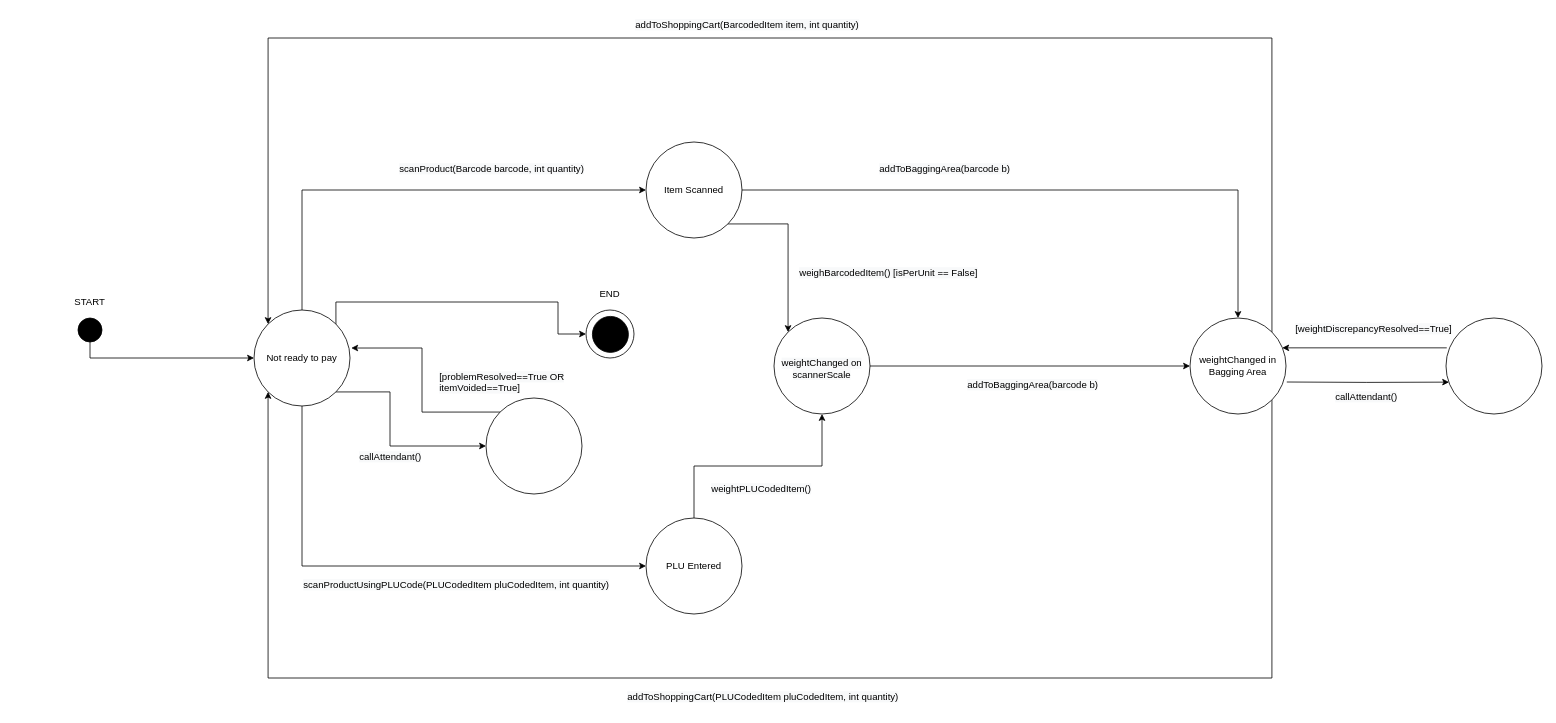
Image size: 1556x723. Some labels were removed from this diagram. Each missing label, with the centre of its shape:
"Scanning Problem/Item not voided" goes at [533,445].
"weightDiscrepancy in Bagging Area" goes at [1493,365].
